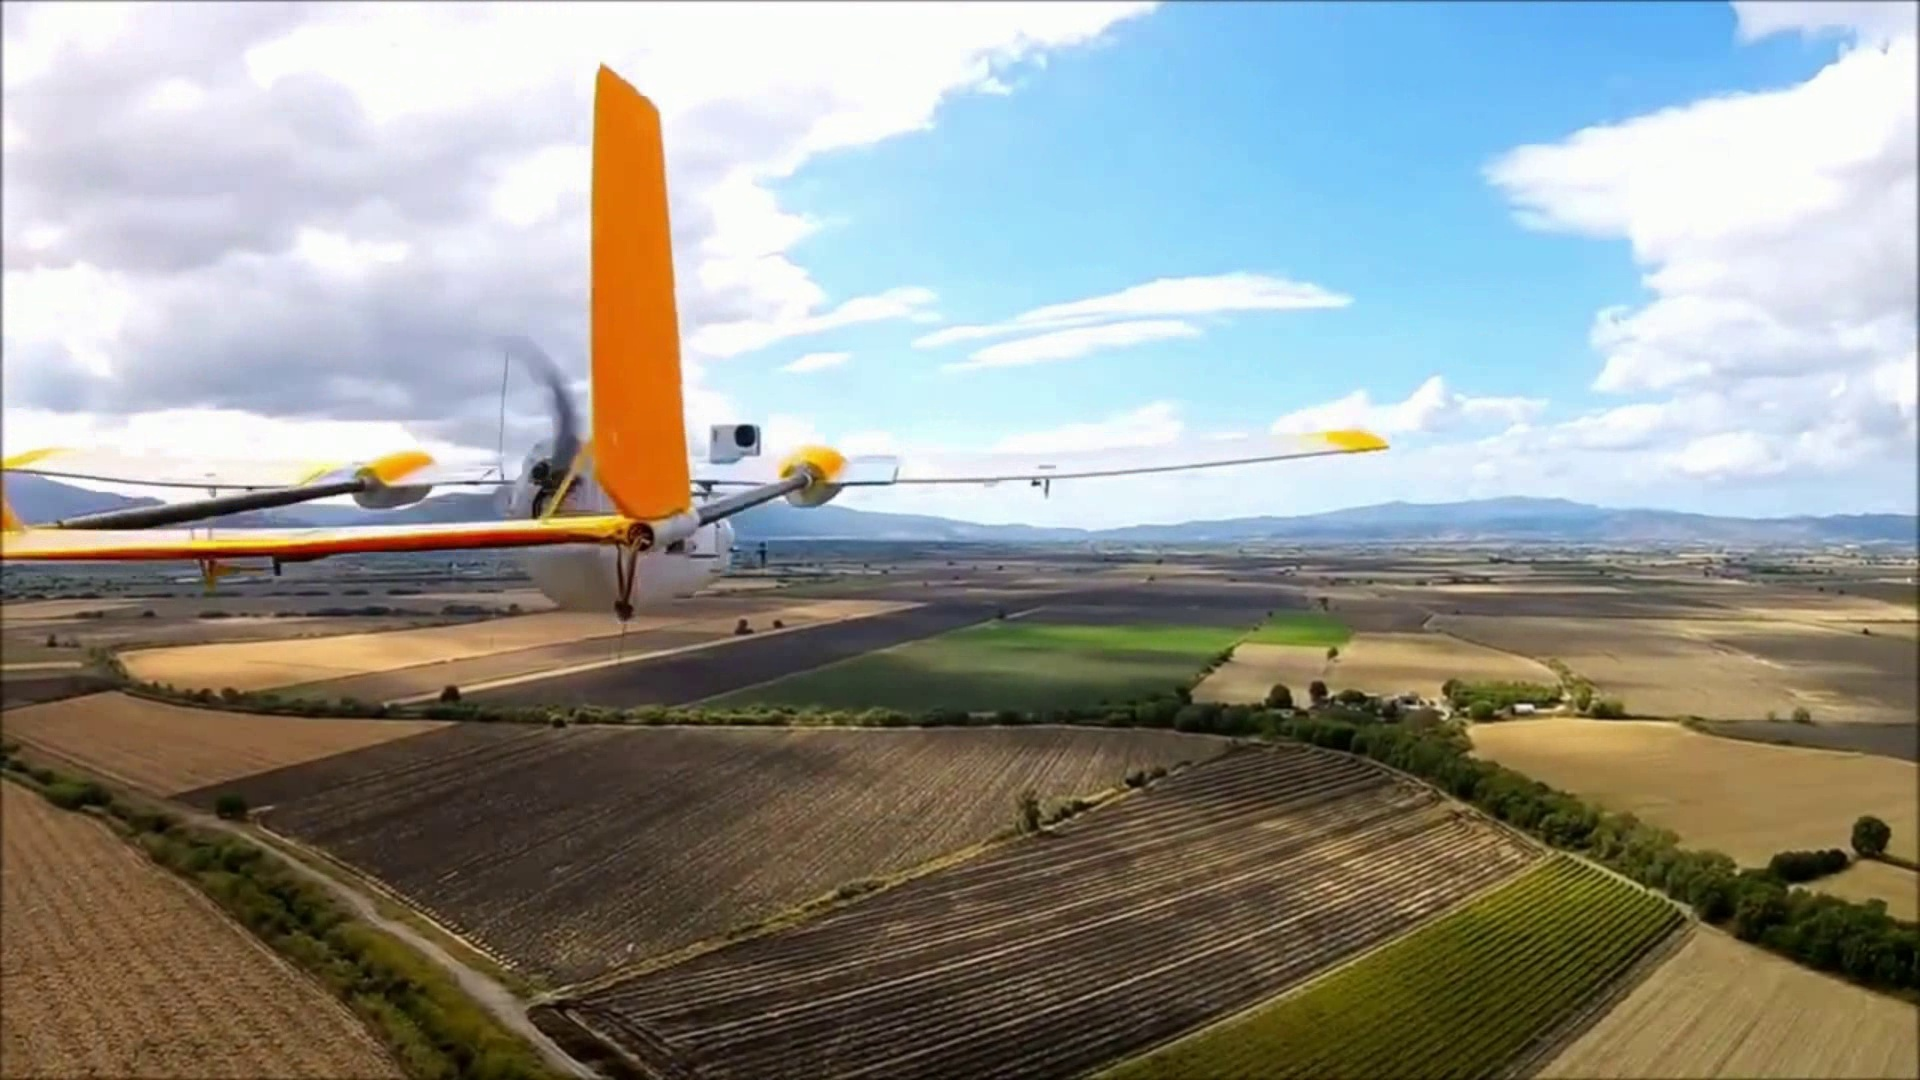airplane: (41, 62, 1382, 632), (6, 441, 440, 537)
